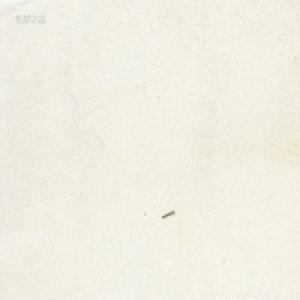Bolt: (160, 209, 174, 219)
